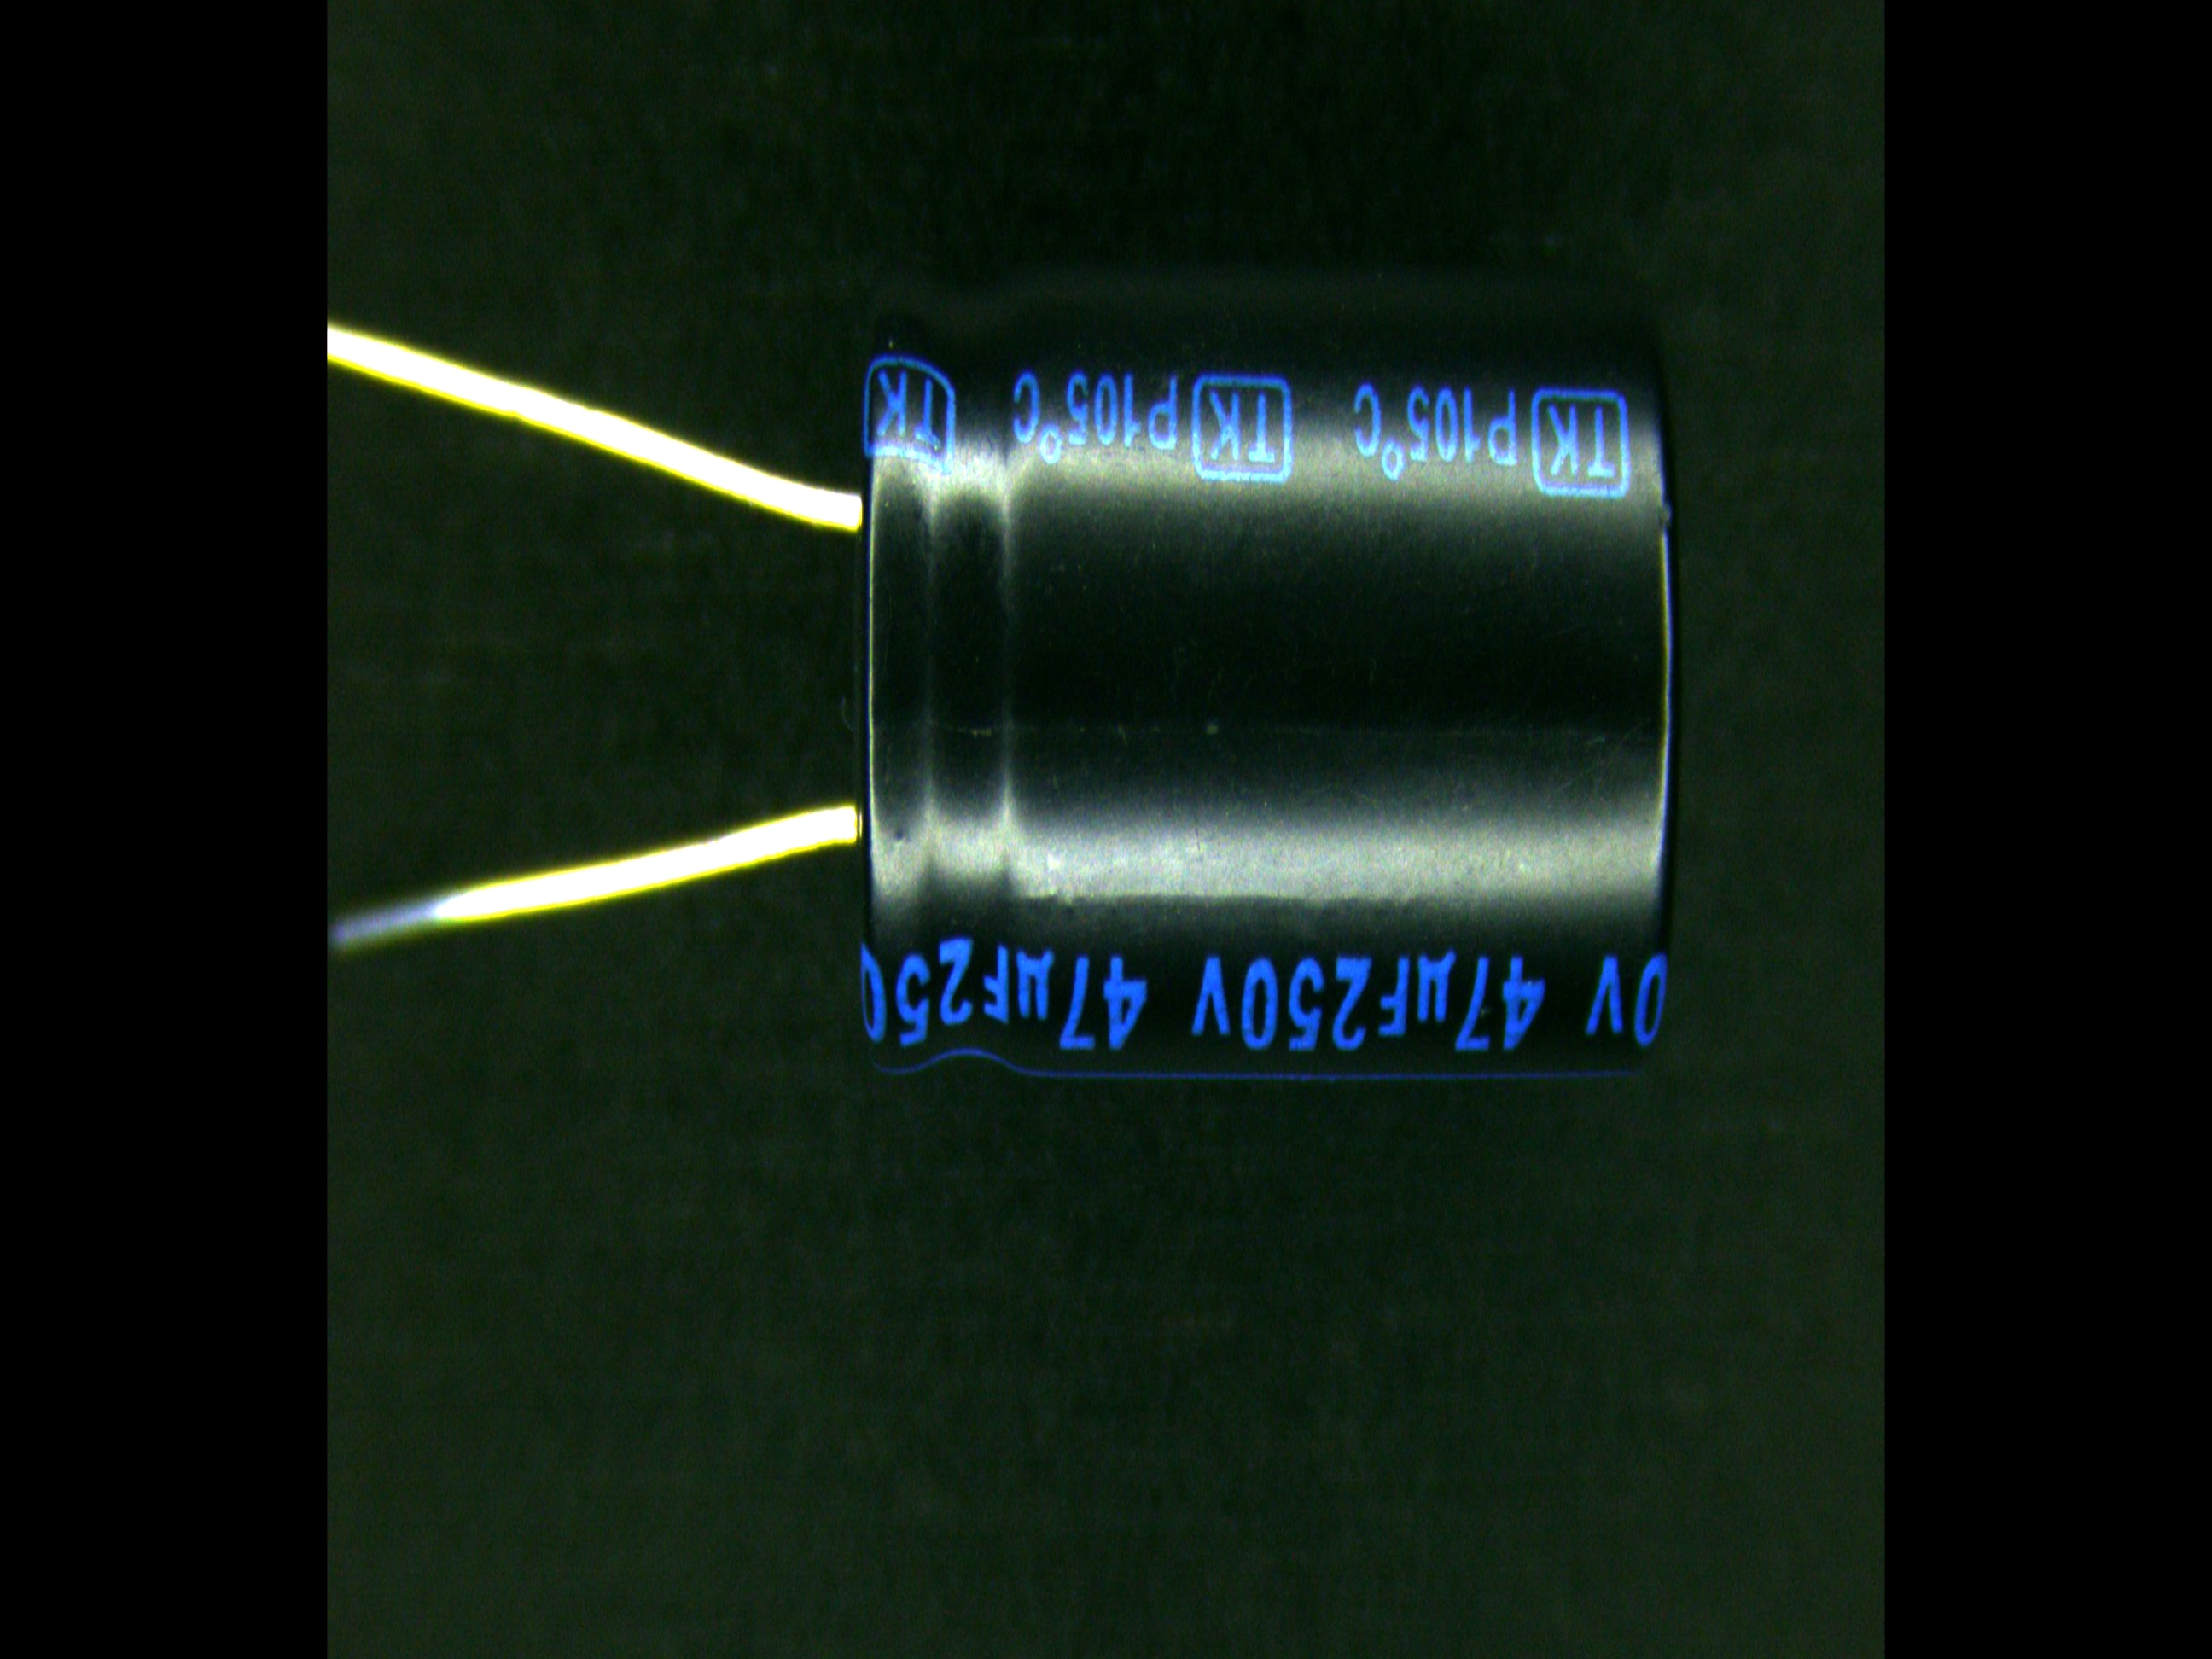c2: (735, 279, 1686, 1082)
